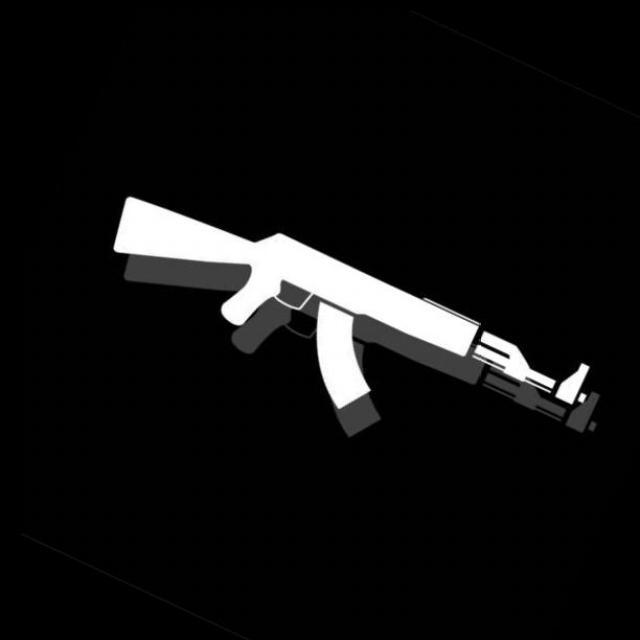weapon: (112, 196, 592, 412), (123, 253, 600, 438)
